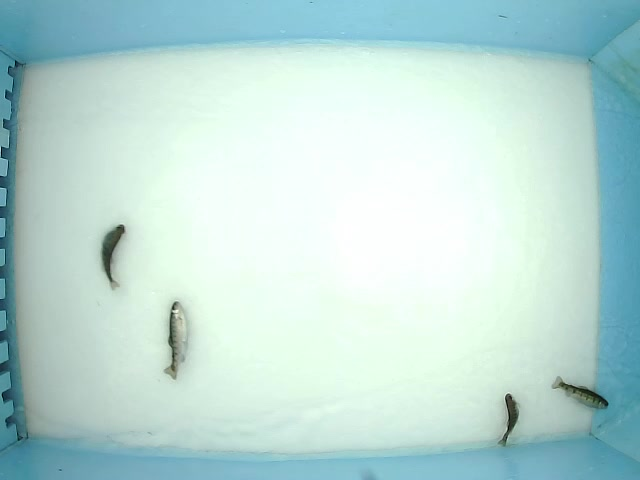fish: (161, 300, 191, 381), (550, 375, 610, 411), (100, 223, 126, 293), (497, 392, 521, 448)
